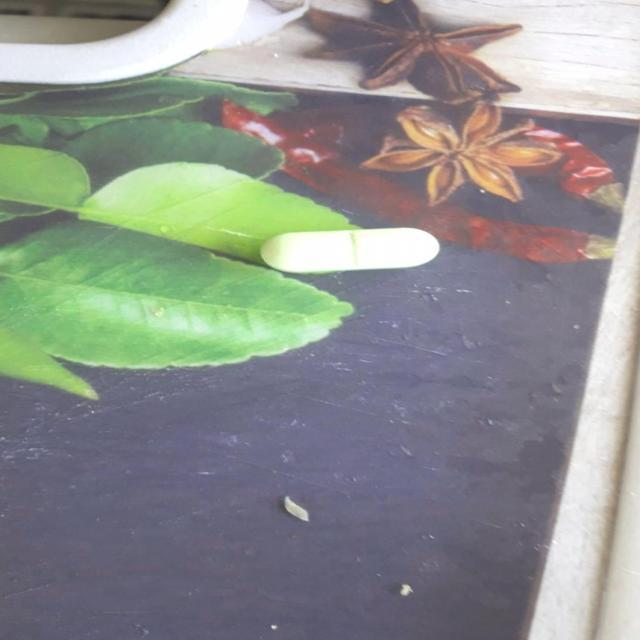pill: (256, 222, 454, 278)
